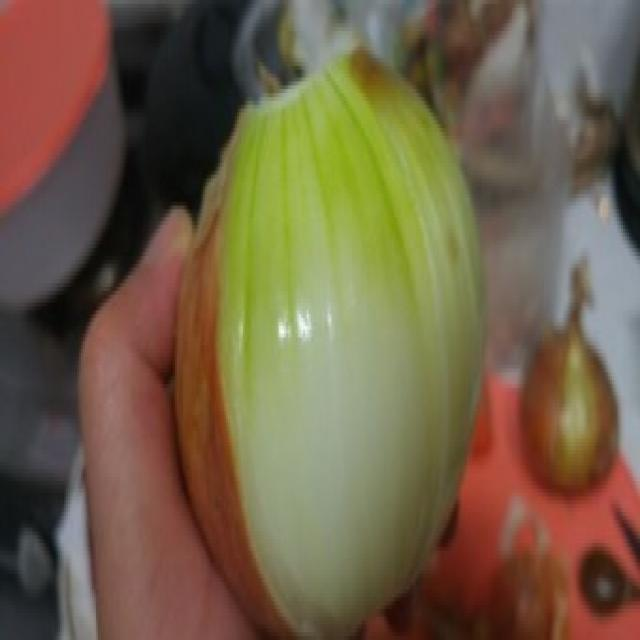Onion: (167, 52, 493, 640)
